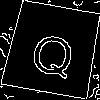Q: (27, 25, 79, 81)
